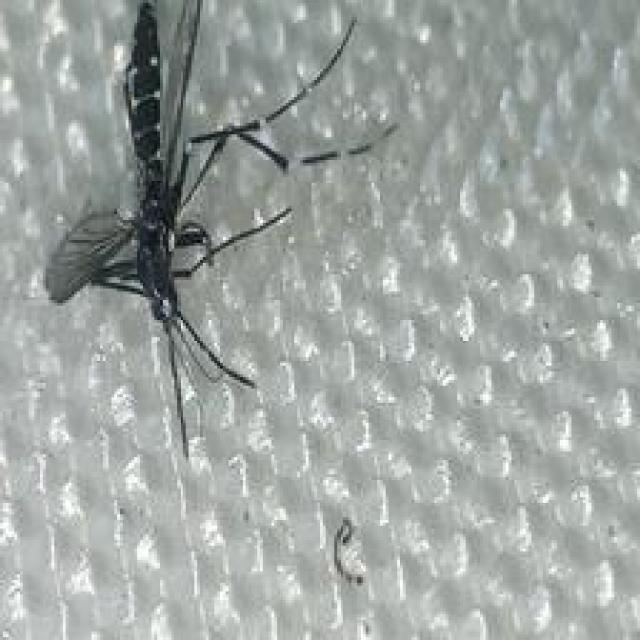Aedes albopictus: (43, 0, 397, 460)
